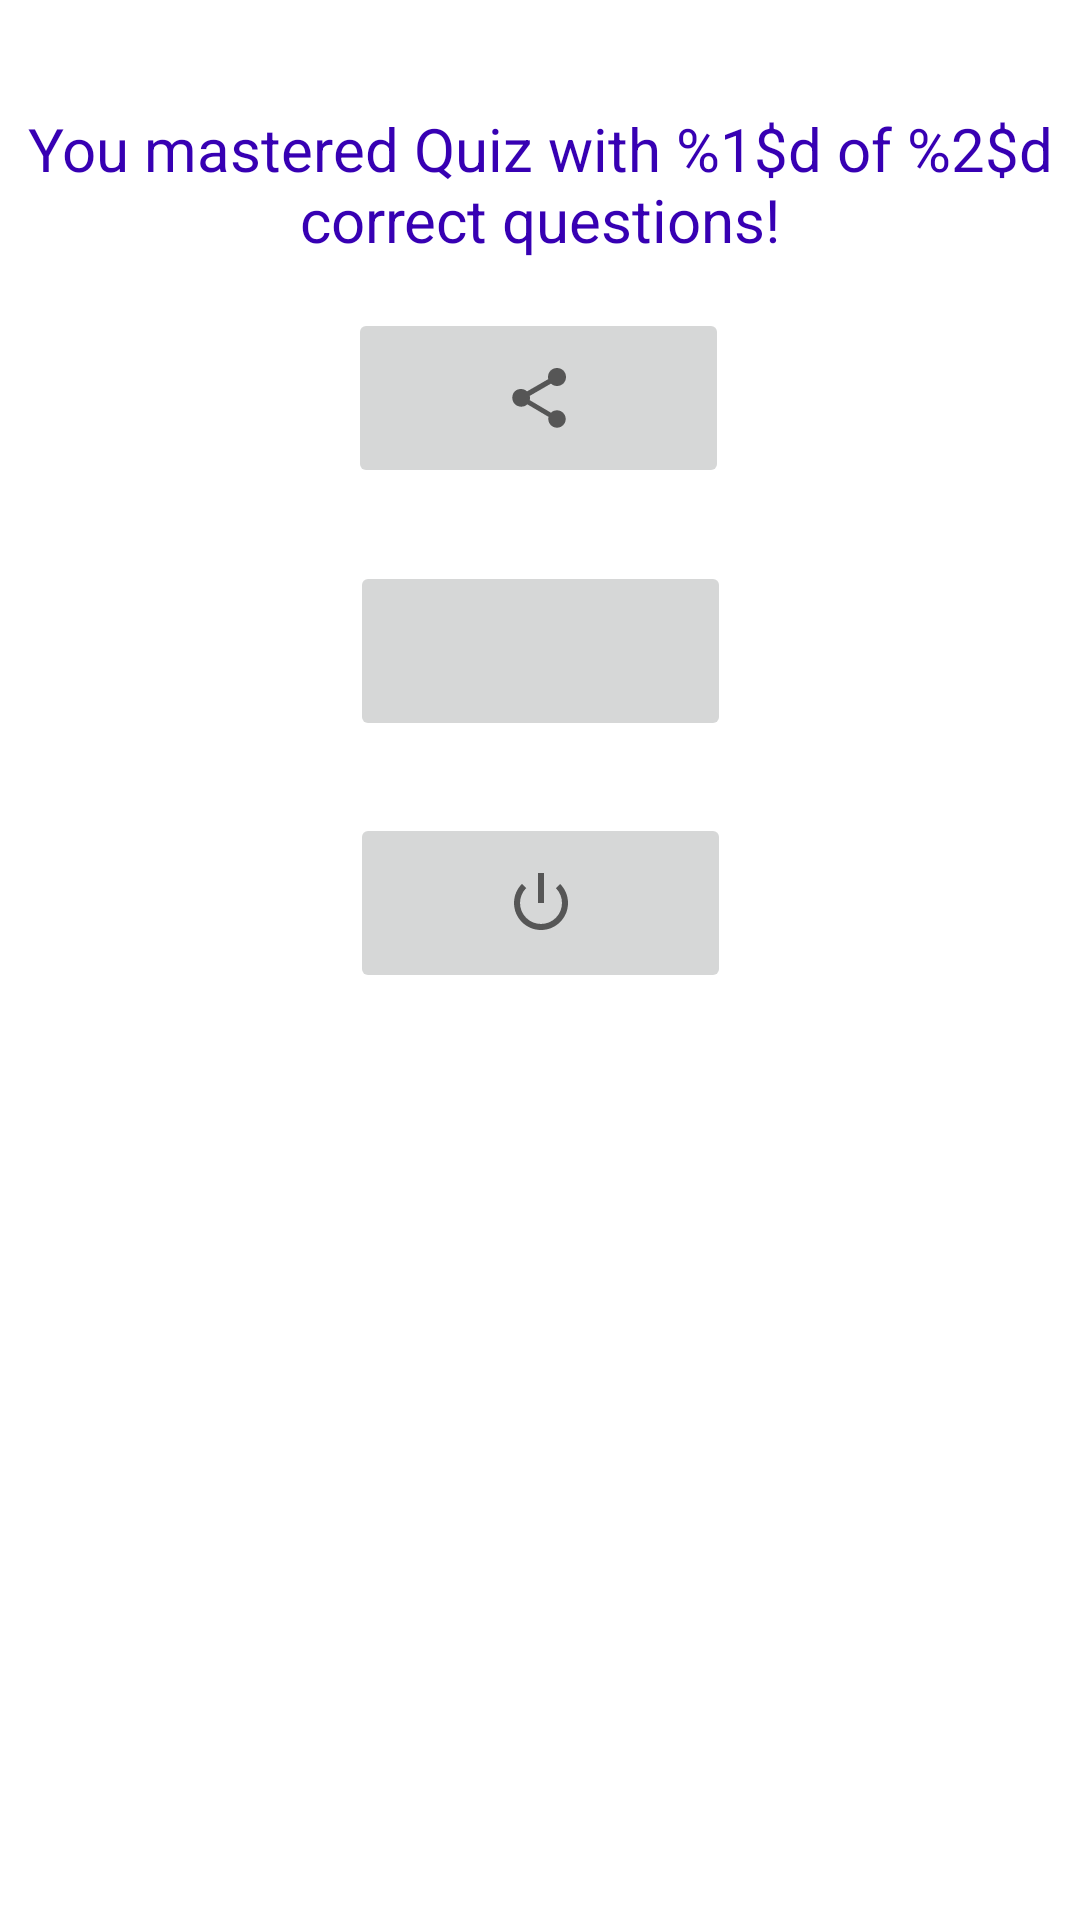

Where to tap for icons on this 1080x1920 app screen, as (x,y):
Exit app: (540,903)
